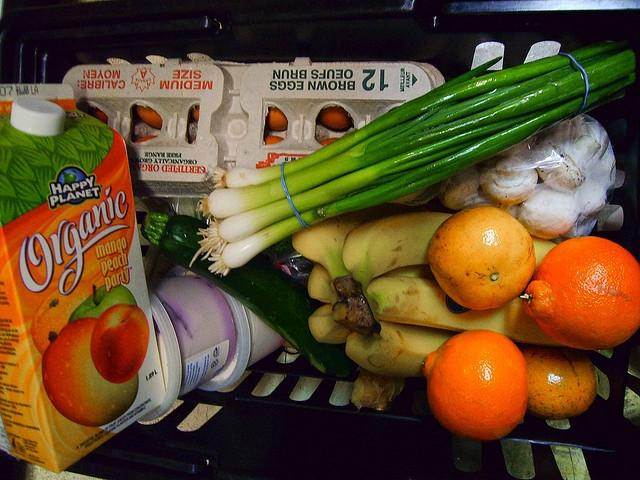banana: (342, 212, 558, 290), (366, 276, 568, 346), (332, 298, 460, 378), (292, 203, 418, 282), (308, 304, 351, 344), (308, 262, 340, 308)
green onion: (208, 72, 636, 276), (200, 44, 636, 217), (212, 39, 628, 188), (217, 112, 538, 241)
mushroom: (532, 136, 601, 192), (516, 188, 582, 239), (479, 155, 538, 205), (437, 166, 481, 210), (576, 180, 606, 215), (591, 154, 616, 192), (498, 134, 536, 158), (562, 216, 594, 238), (594, 124, 610, 160), (554, 119, 574, 146), (499, 205, 518, 220)
orange: (518, 235, 622, 350), (422, 331, 530, 441), (427, 206, 535, 310), (519, 344, 599, 420), (33, 298, 84, 360)
vegetable marrow: (136, 211, 356, 377)
